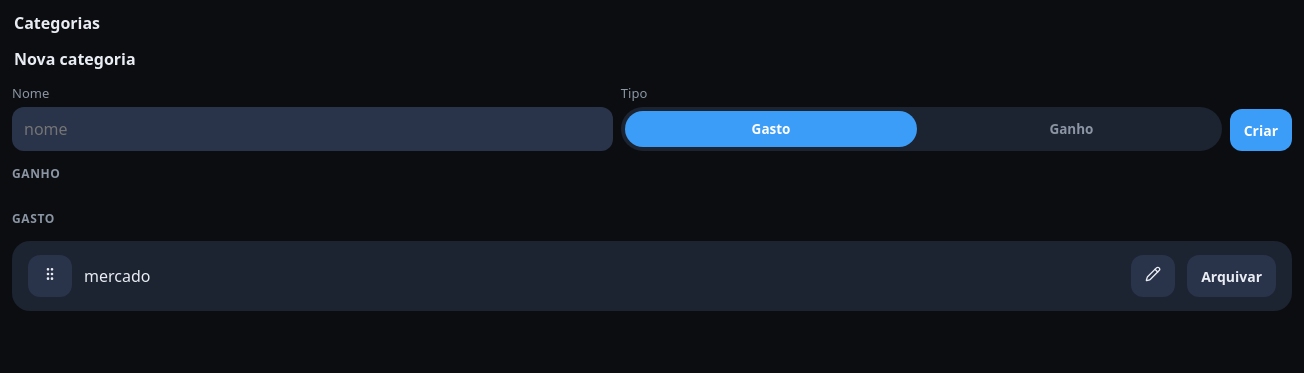
Test case: arquivar move a categoria para a seção Arquivadas, com badge de tipo
Expected: the text "Arquivadas" is not shown
Click the button "Arquivar".
click(1232, 276)  # box [1187,255,1276,297]
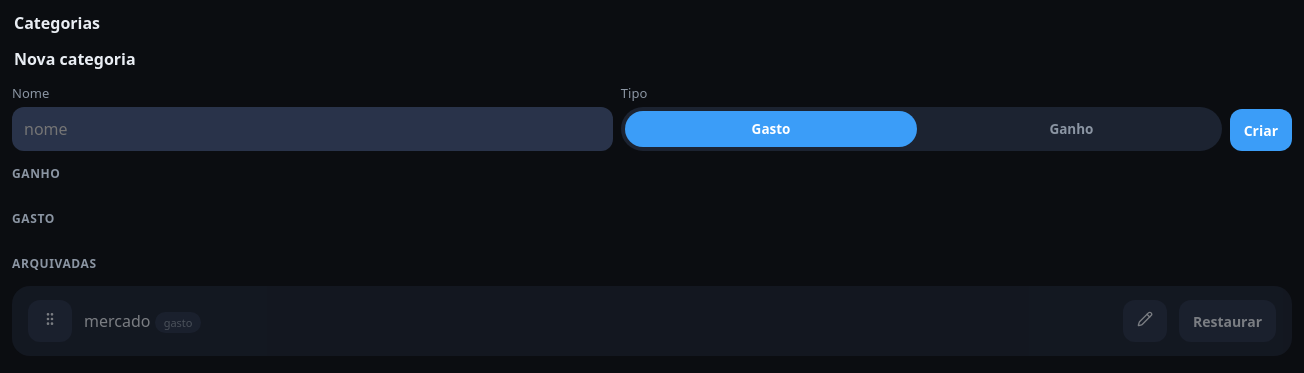
Expected: the text "Arquivadas" is shown, [12,255,97,272]
Expected: the text "gasto" is shown, [155,312,201,333]
